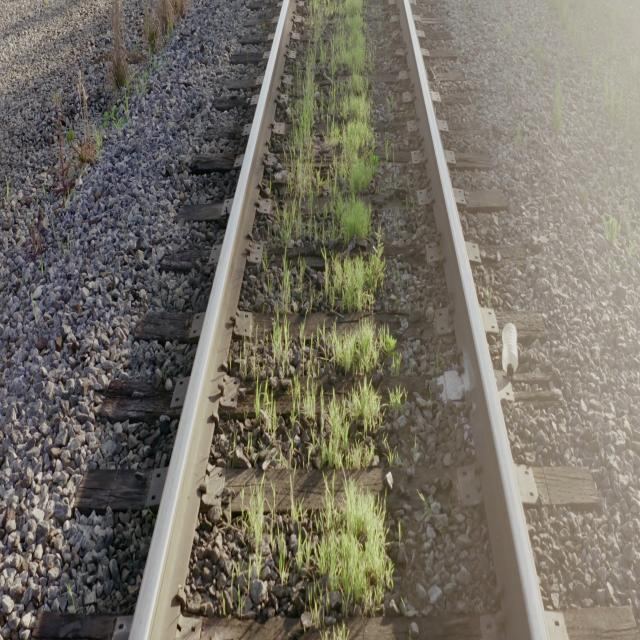Plant: (270, 480, 391, 624), (290, 320, 399, 471), (280, 2, 330, 249), (329, 0, 376, 244), (315, 478, 392, 613), (321, 231, 385, 313), (271, 258, 291, 376), (245, 487, 265, 578), (255, 382, 278, 438), (391, 391, 405, 409)
